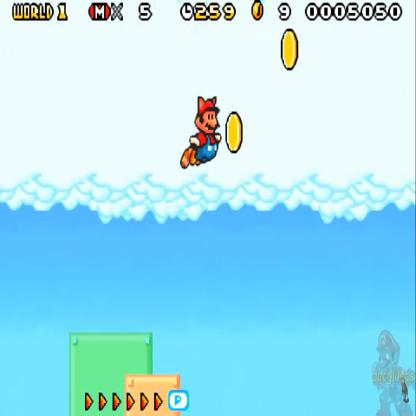Mario: (178, 95, 226, 176)
moneda: (225, 108, 246, 154), (278, 27, 302, 65), (250, 0, 270, 25)
